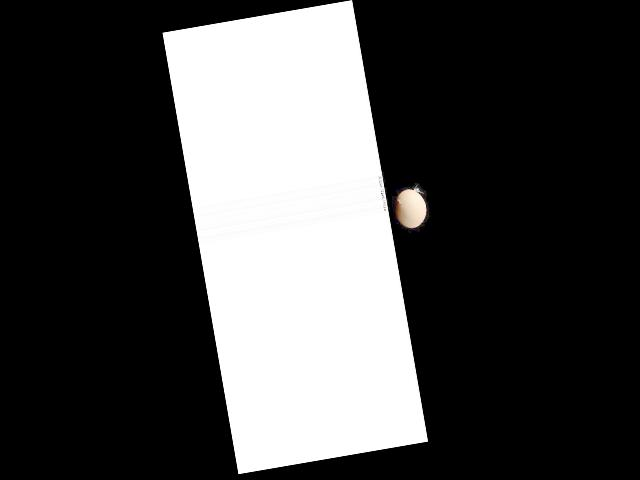egg: (391, 187, 428, 230)
